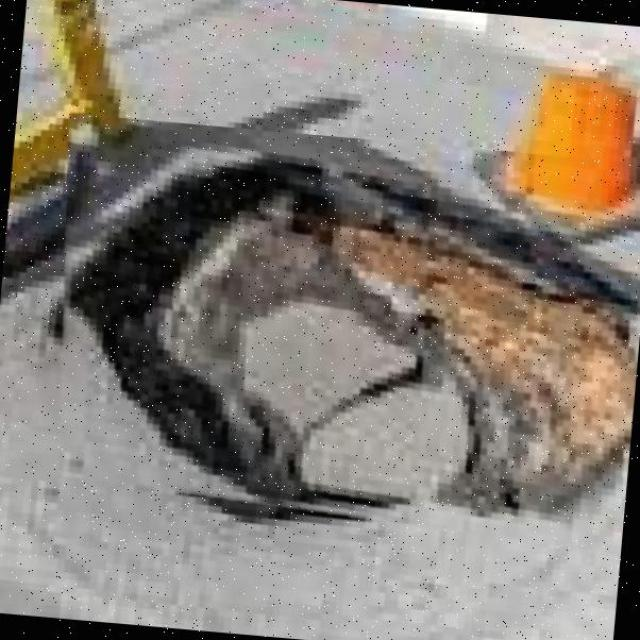pothole: (62, 149, 640, 525)
